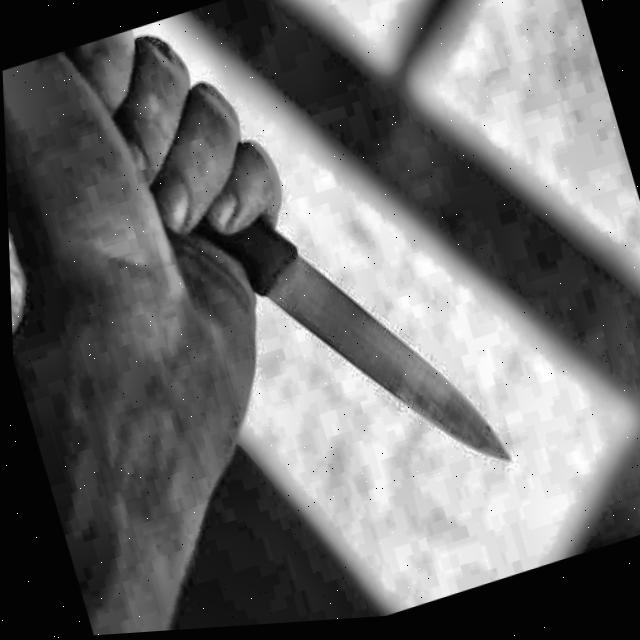pisau: (108, 33, 520, 557)
